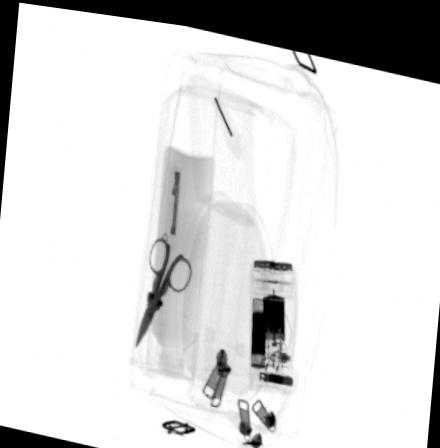Scissors: (133, 232, 192, 345)
